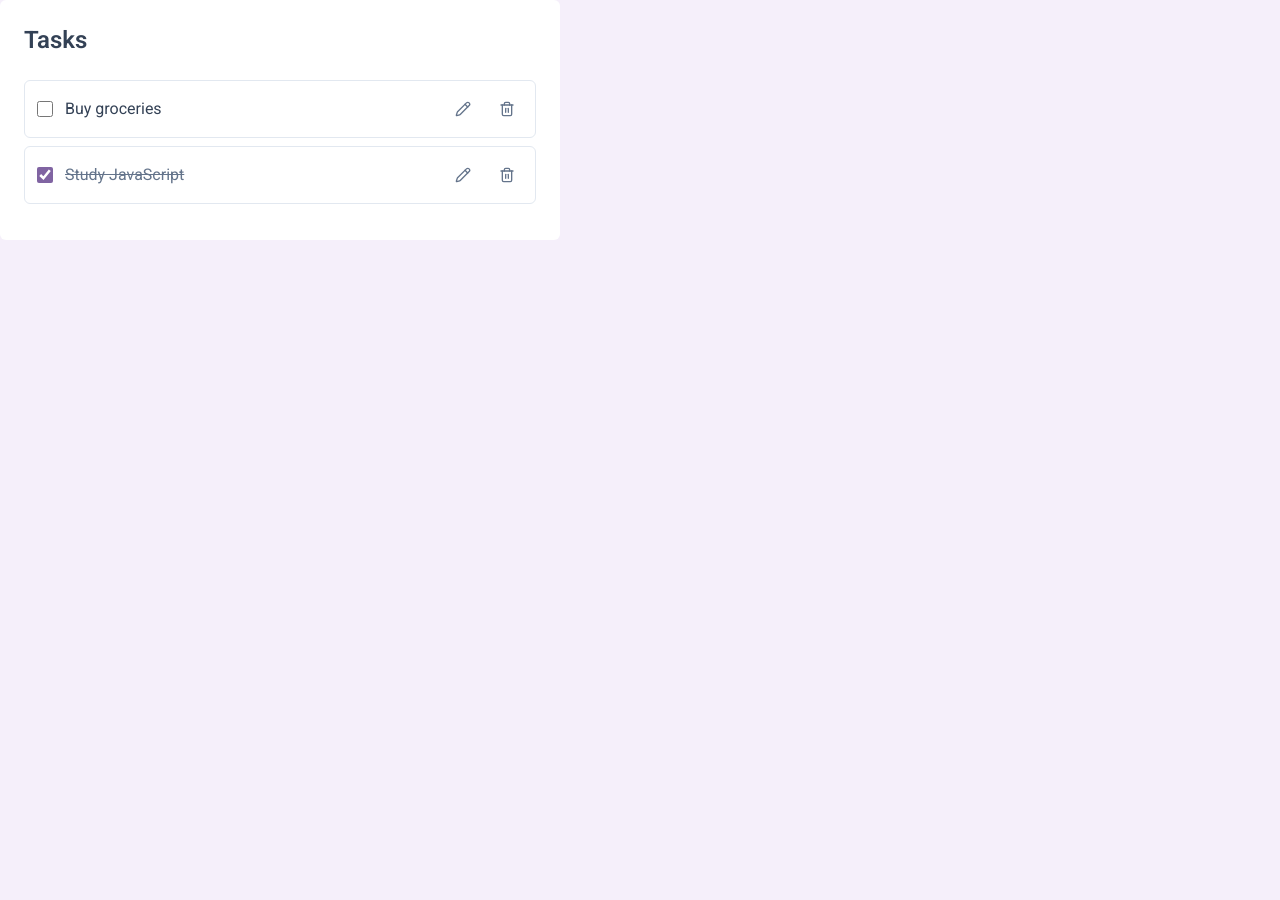
Test: TaskList › cancels deletion without removing the task
Click the button named "Delete Buy groceries".
click(507, 109)  # box [491,93,523,125]
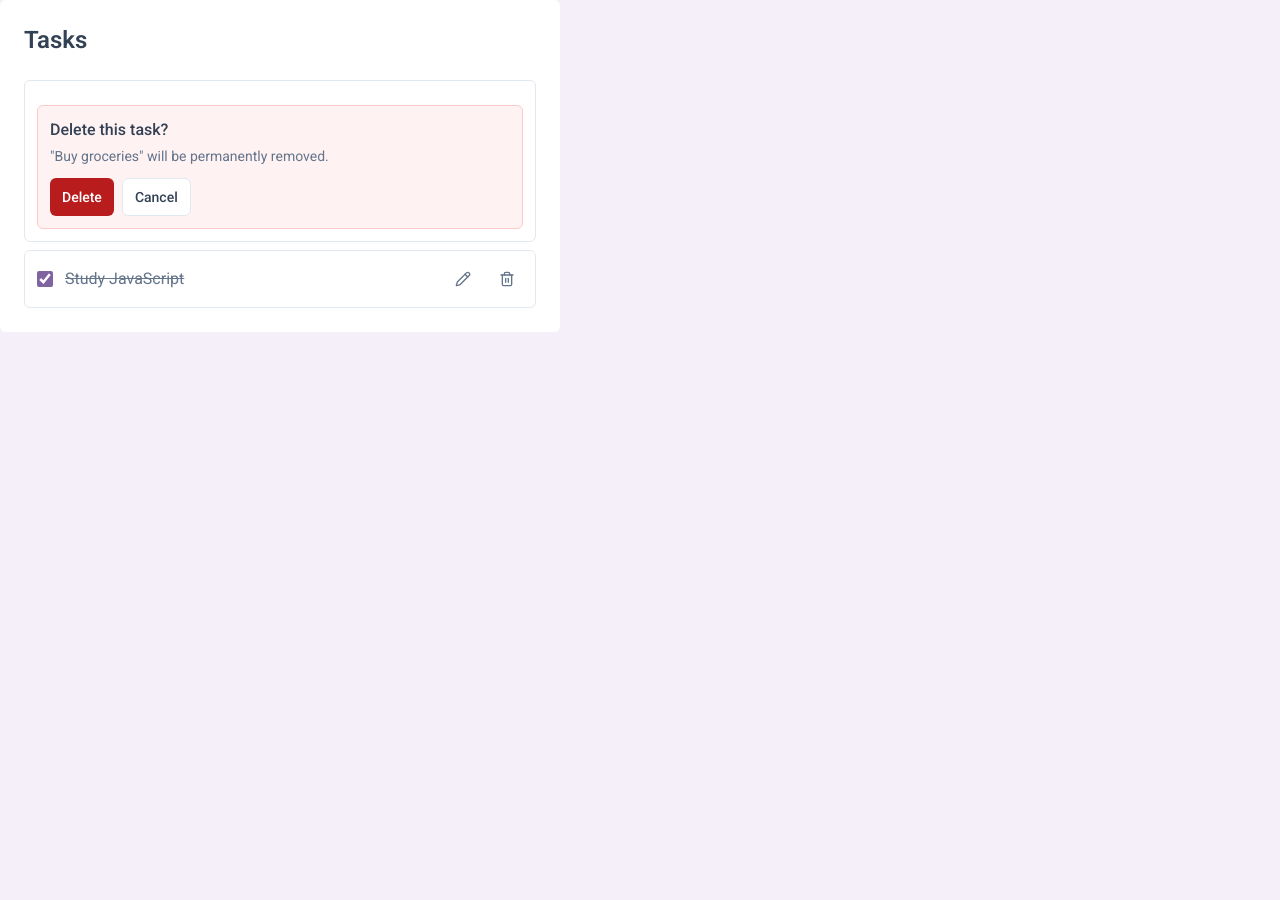
Click the button "Cancel".
click(156, 197)  # box [122,178,191,216]
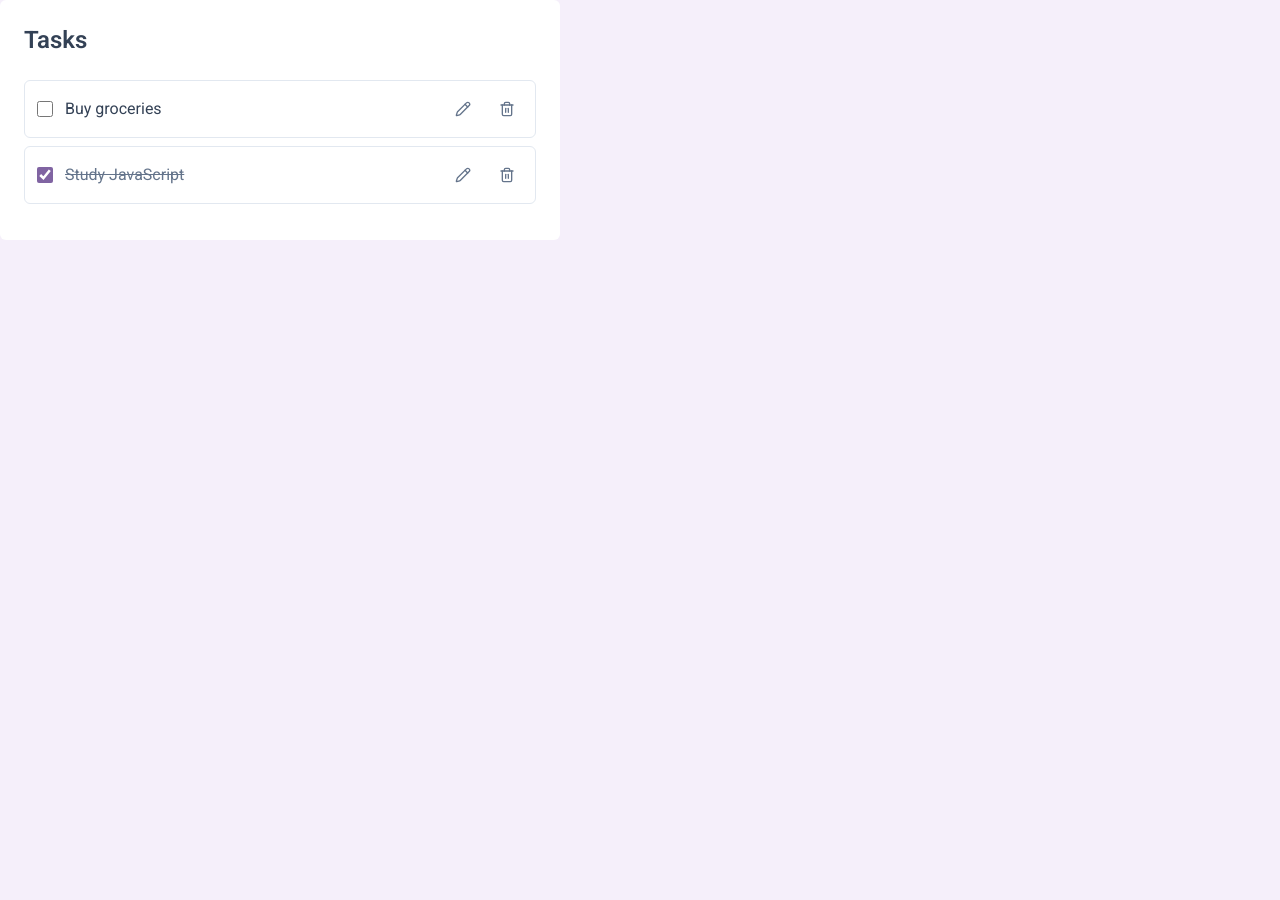
Expected: the text "Buy groceries" is shown, [65,97,162,121]
Expected: the dialog is gone
